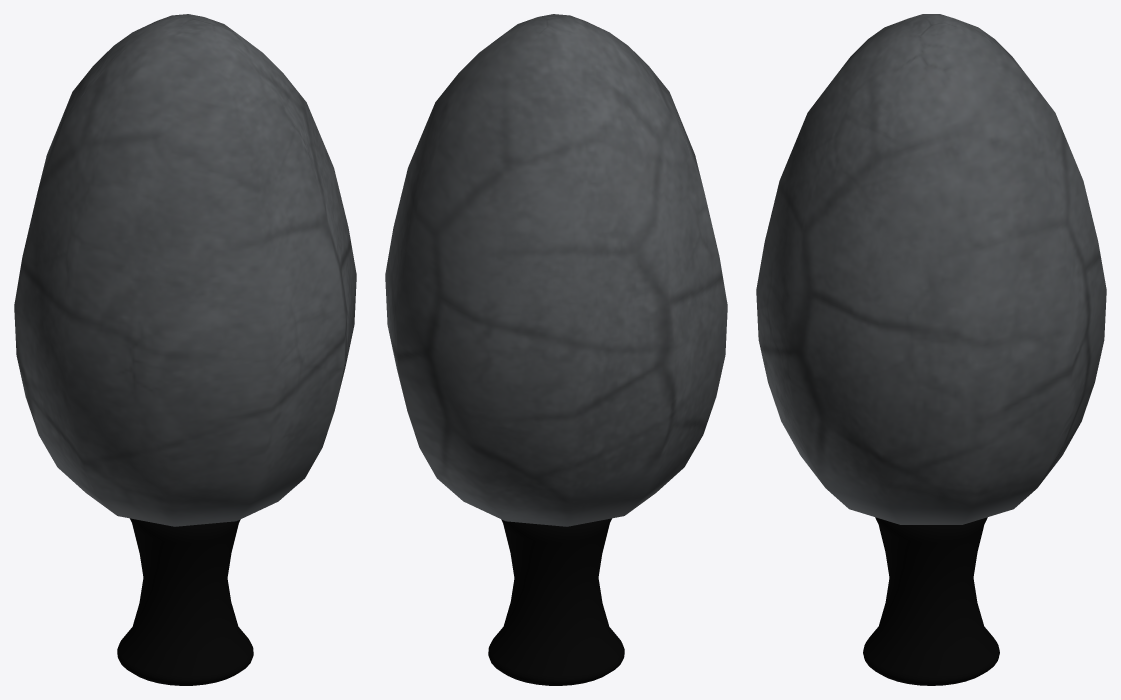
Rendered from petrifiedUnity.fbx.
The picture shows the model from 3 angles, left to right: view 1: azimuth 30°, elevation 25°; view 2: azimuth 150°, elevation 25°; view 3: azimuth 270°, elevation 25°; orthographic projection.
Parts seen in each view (by area): view 1: eggBake, stemBake; view 2: eggBake, stemBake; view 3: eggBake, stemBake.
Part boxes in pixels (x1,y1,x2,y2): eggBake: (14,14,356,526); stemBake: (117,518,253,685); eggBake: (385,14,727,526); stemBake: (488,518,624,685); eggBake: (756,14,1106,524); stemBake: (863,517,999,685).
Bounding box in the file's own units: 173 × 372 × 182.
